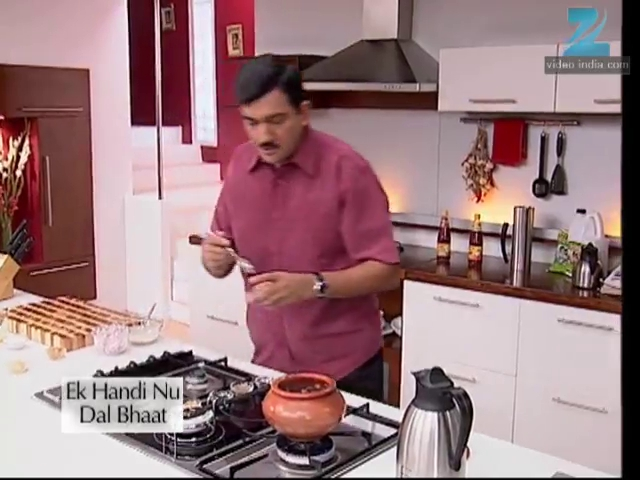person: (202, 54, 402, 404)
